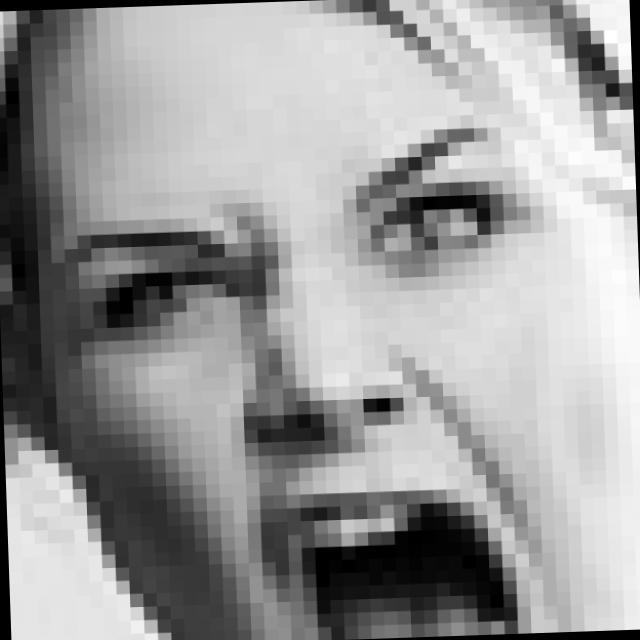angry: (53, 115, 568, 640)
